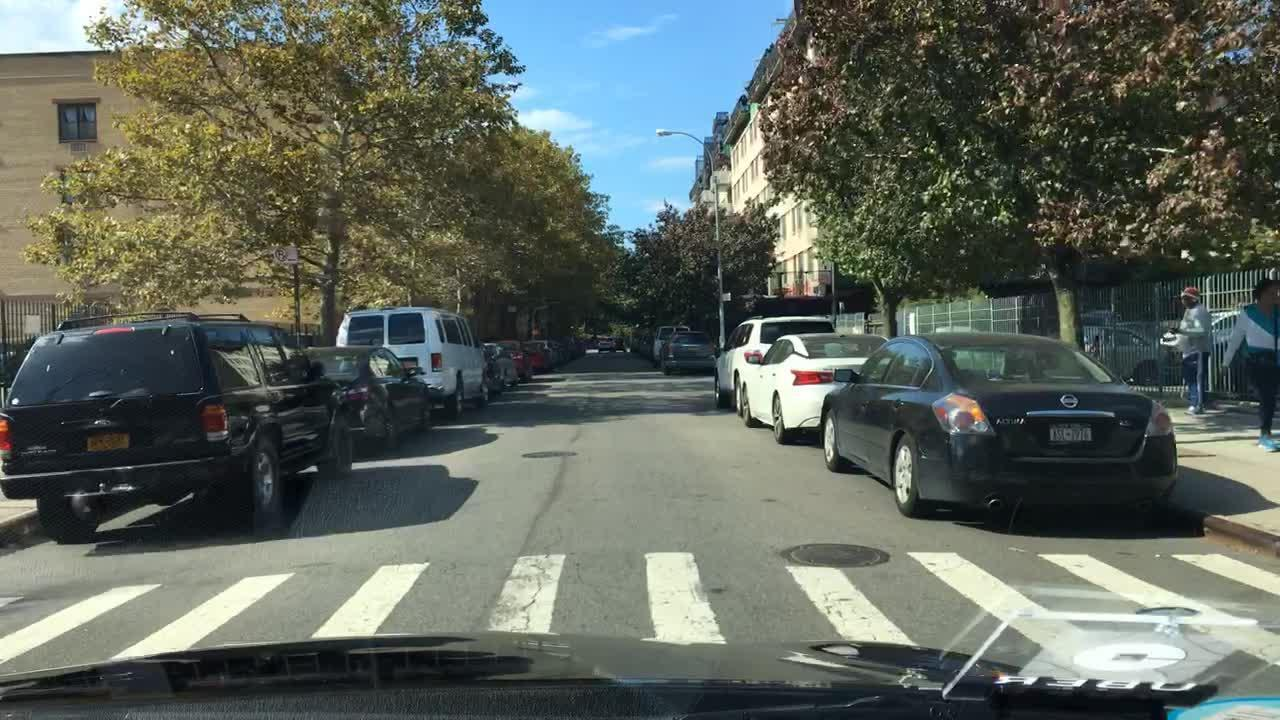Nissan: (1055, 384, 1086, 415)
